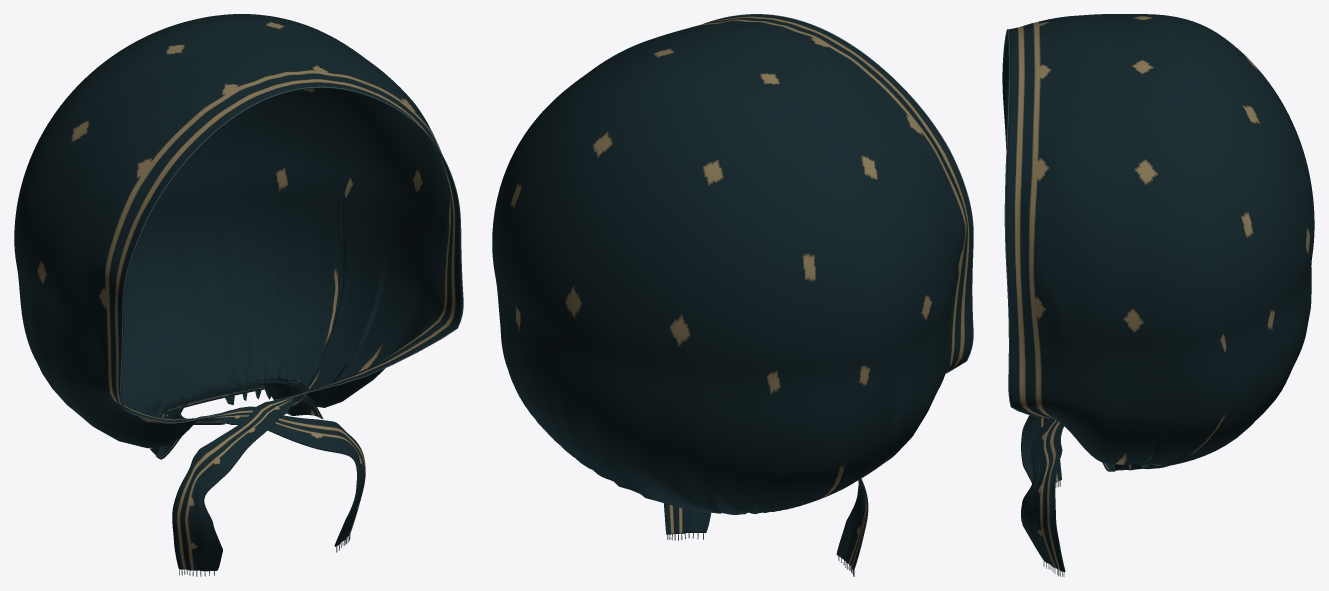
File: Feminine-bob-sweatshirt-pashmina250-headgear.glb
3 renders of one model, left to right at view 1: azimuth 30°, elevation 25°; view 2: azimuth 150°, elevation 25°; view 3: azimuth 270°, elevation 25°, orthographic. The views are drawn at different scales.
Parts seen in each view (by area): view 1: 226 headgear / Headwear / continuous woven pashmina239, 226 headgear / Headwear / face edge239; view 2: 226 headgear / Headwear / continuous woven pashmina239, 226 headgear / Headwear / face edge239; view 3: 226 headgear / Headwear / continuous woven pashmina239, 226 headgear / Headwear / face edge239.
Part boxes in pixels (x1=…): 226 headgear / Headwear / continuous woven pashmina239: x1=14, y1=14, x2=462, y2=571; 226 headgear / Headwear / face edge239: x1=120, y1=86, x2=463, y2=423; 226 headgear / Headwear / continuous woven pashmina239: x1=492, y1=14, x2=972, y2=570; 226 headgear / Headwear / face edge239: x1=702, y1=14, x2=973, y2=373; 226 headgear / Headwear / continuous woven pashmina239: x1=1002, y1=14, x2=1314, y2=572; 226 headgear / Headwear / face edge239: x1=1002, y1=29, x2=1047, y2=418.
Bounding box in the file's own units: 1.1 × 1.39 × 0.7846.
Materials: 3 (1 with a texture image).
